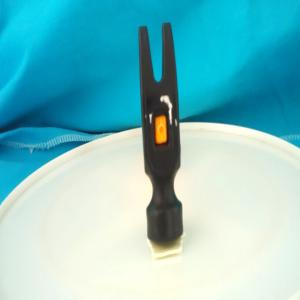martelo: (138, 21, 185, 245)
